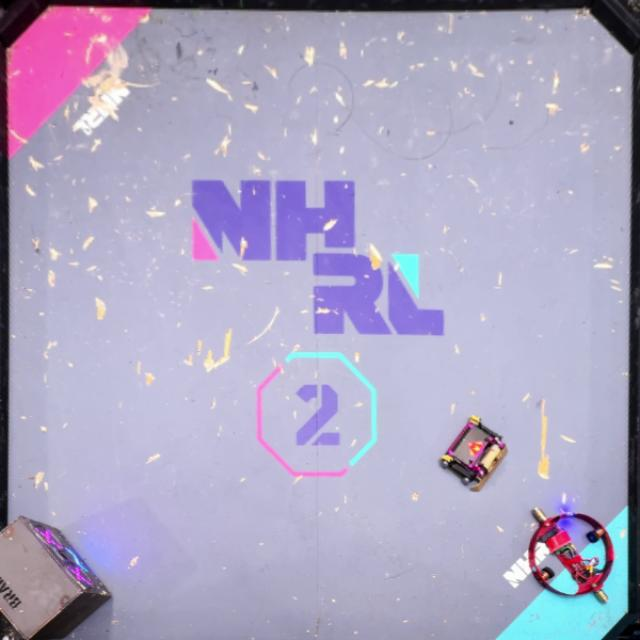housebot: (0, 514, 112, 640)
robot: (527, 507, 615, 602), (438, 415, 508, 492)
